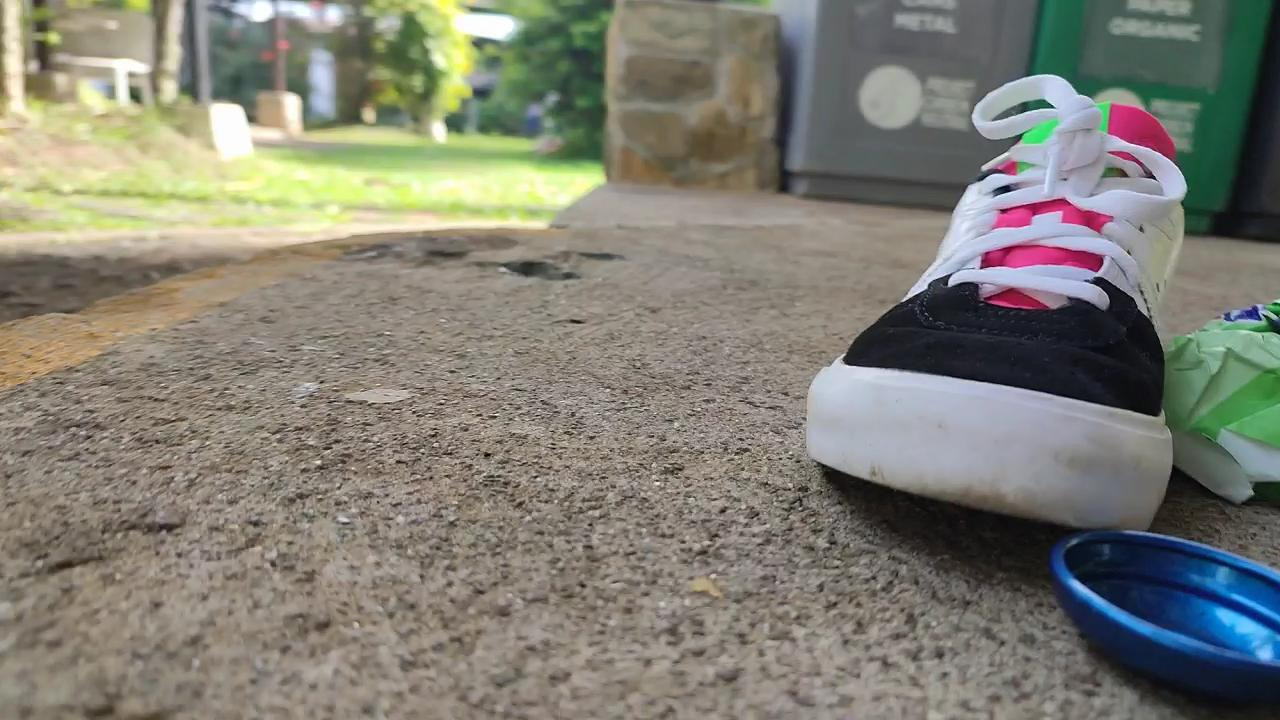Paper: (1155, 251, 1280, 511)
